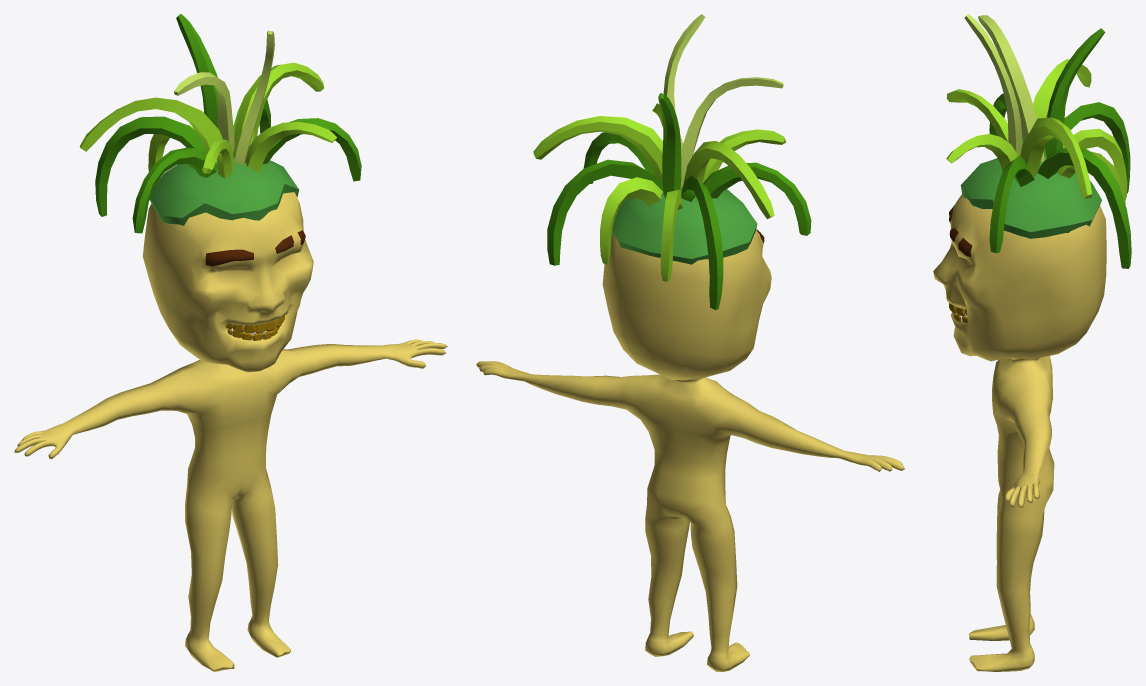
The model's file is Morgen_Tpose.fbx.
3 views of the same model, side by side, from view 1: azimuth 30°, elevation 25°; view 2: azimuth 150°, elevation 25°; view 3: azimuth 270°, elevation 25° (orthographic). The views are drawn at different scales.
Visible parts, largest first — view 1: Morgen_Tpose; view 2: Morgen_Tpose; view 3: Morgen_Tpose.
Part boxes in pixels (left/top/right/bottom): Morgen_Tpose: left=14, top=14, right=447, bottom=671; Morgen_Tpose: left=476, top=14, right=904, bottom=671; Morgen_Tpose: left=933, top=14, right=1131, bottom=671.
Bounding box in the file's own units: 8.91 × 12.41 × 3.46.
